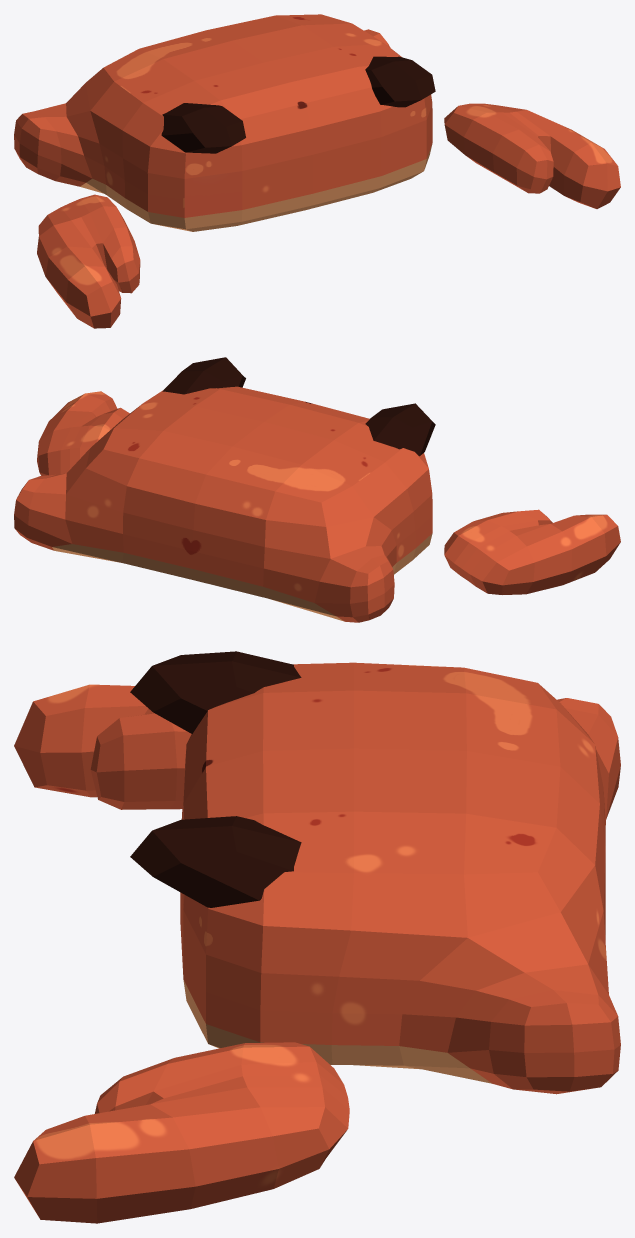
The model's file is crab.fbx.
The picture shows the model from 3 angles, top to bottom: view 1: azimuth 30°, elevation 25°; view 2: azimuth 150°, elevation 25°; view 3: azimuth 270°, elevation 25°; orthographic projection. The views are drawn at different scales.
Parts seen in each view (by area): view 1: Crab Body, claws, Eyes, Crab Butty; view 2: Crab Body, claws, Eyes, Crab Butty; view 3: Crab Body, claws, Eyes, Crab Butty.
Boxes of the visible parts, <box> form: Crab Body: <box>14,14,432,217</box>; claws: <box>37,103,620,328</box>; Eyes: <box>161,56,435,153</box>; Crab Butty: <box>80,144,432,231</box>; Crab Body: <box>14,386,432,622</box>; claws: <box>37,391,620,594</box>; Eyes: <box>162,357,435,456</box>; Crab Butty: <box>52,533,432,621</box>; Crab Body: <box>180,662,620,1094</box>; claws: <box>14,684,349,1223</box>; Eyes: <box>130,651,301,907</box>; Crab Butty: <box>183,979,491,1083</box>.
Size of the model in its own units: 188 by 48.96 by 103.
